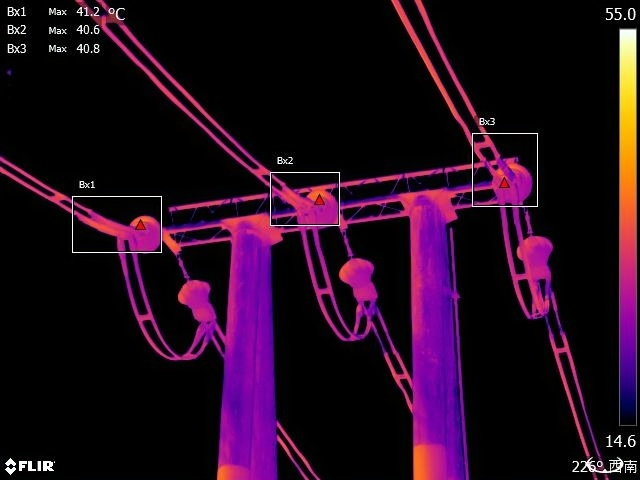clamp: (526, 279, 564, 307), (111, 228, 139, 257), (490, 186, 524, 206), (191, 323, 223, 344), (353, 300, 382, 321)
insulator: (510, 226, 558, 283), (175, 272, 222, 328), (335, 253, 382, 305), (492, 158, 536, 206), (119, 208, 161, 251), (298, 186, 340, 226)
